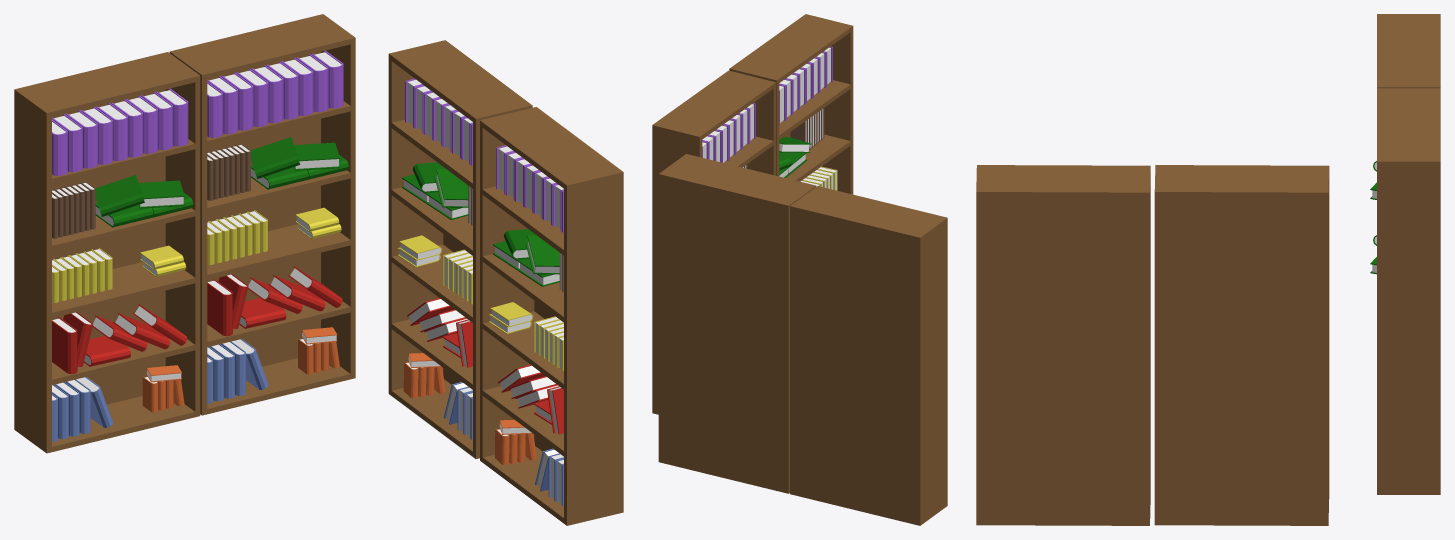
Rendered from lemari buku.fbx.
3 renders of one model, left to right at view 1: azimuth 30°, elevation 25°; view 2: azimuth 150°, elevation 25°; view 3: azimuth 270°, elevation 25°, orthographic. The views are drawn at different scales.
Visible parts, largest first — view 1: Cube, Cube.003, Cube.001, Cube.002, Circle.006, Circle.011, Circle.008, Circle.005, Circle.002, Circle.014, Circle.015, Circle.001 (+18 smaller); view 2: Cube, Cube.001, Cube.003, Cube.002, Circle.025, Circle.018, Circle.022, Circle.024, Circle.023; view 3: Cube.002, Cube.003, Cube.001, Cube.
Boxes of the visible parts, <box> form: Cube: <box>14,52,200,453</box>; Cube.003: <box>480,107,623,525</box>; Cube.001: <box>169,14,355,415</box>; Cube.002: <box>388,40,532,458</box>; Circle.006: <box>207,50,343,137</box>; Circle.011: <box>52,88,188,175</box>; Circle.008: <box>207,266,342,336</box>; Circle.005: <box>52,304,187,374</box>; Circle.002: <box>207,207,341,264</box>; Circle.014: <box>52,245,186,302</box>; Circle.015: <box>95,175,193,227</box>; Circle.001: <box>251,137,348,189</box>; Cube: <box>790,186,947,525</box>; Cube.001: <box>658,154,816,493</box>; Cube.003: <box>729,14,853,194</box>; Cube.002: <box>652,70,775,414</box>; Circle.025: <box>779,46,832,125</box>; Circle.018: <box>702,103,755,162</box>; Circle.022: <box>779,137,811,177</box>; Circle.024: <box>790,108,824,149</box>; Circle.023: <box>800,166,837,190</box>; Cube.002: <box>1154,165,1329,525</box>; Cube.003: <box>976,165,1150,525</box>; Cube.001: <box>1377,88,1440,494</box>; Cube: <box>1377,14,1440,88</box>.
Size of the model in its own units: 1460 by 1270 by 1604.
